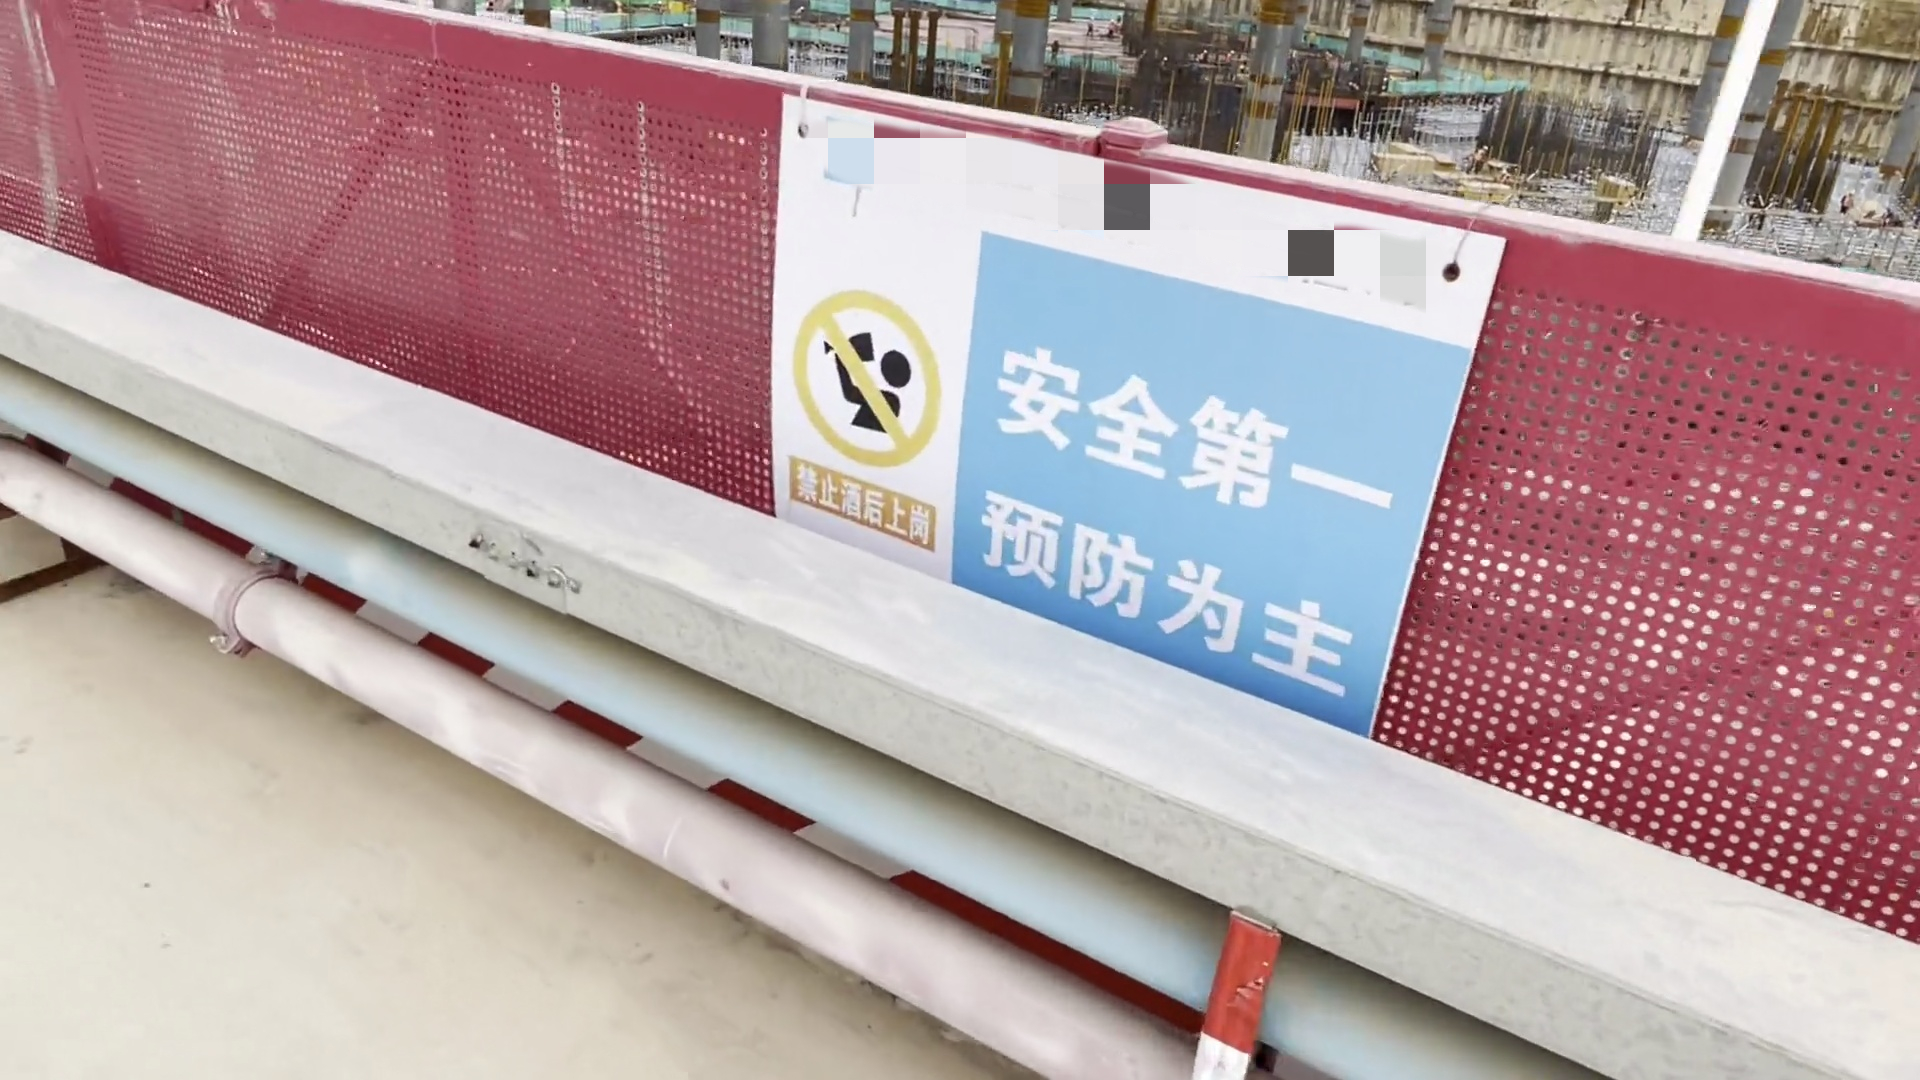slogan: (750, 61, 1487, 750)
